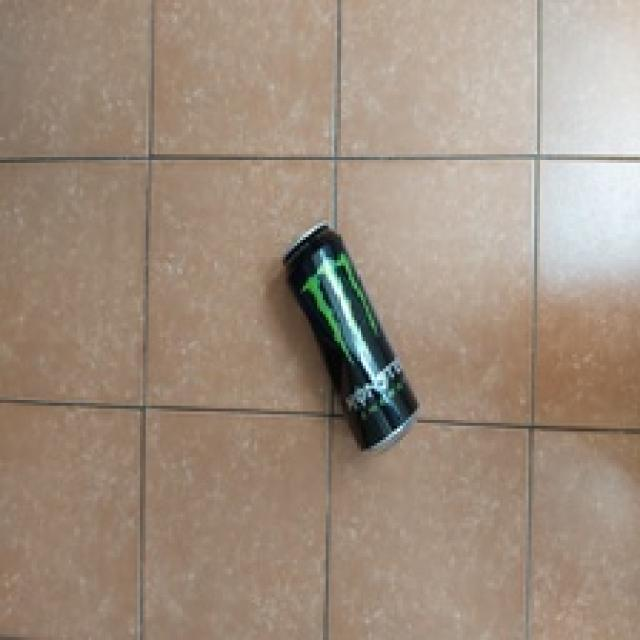recyclable: (278, 218, 420, 457)
